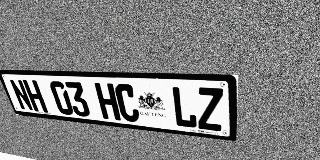0: (48, 81, 75, 115)
3: (64, 82, 91, 117)
C: (114, 84, 141, 123)
H: (94, 83, 121, 120), (22, 80, 48, 113)
L: (171, 86, 197, 129)
N: (8, 79, 34, 111)
Z: (196, 87, 223, 131)
